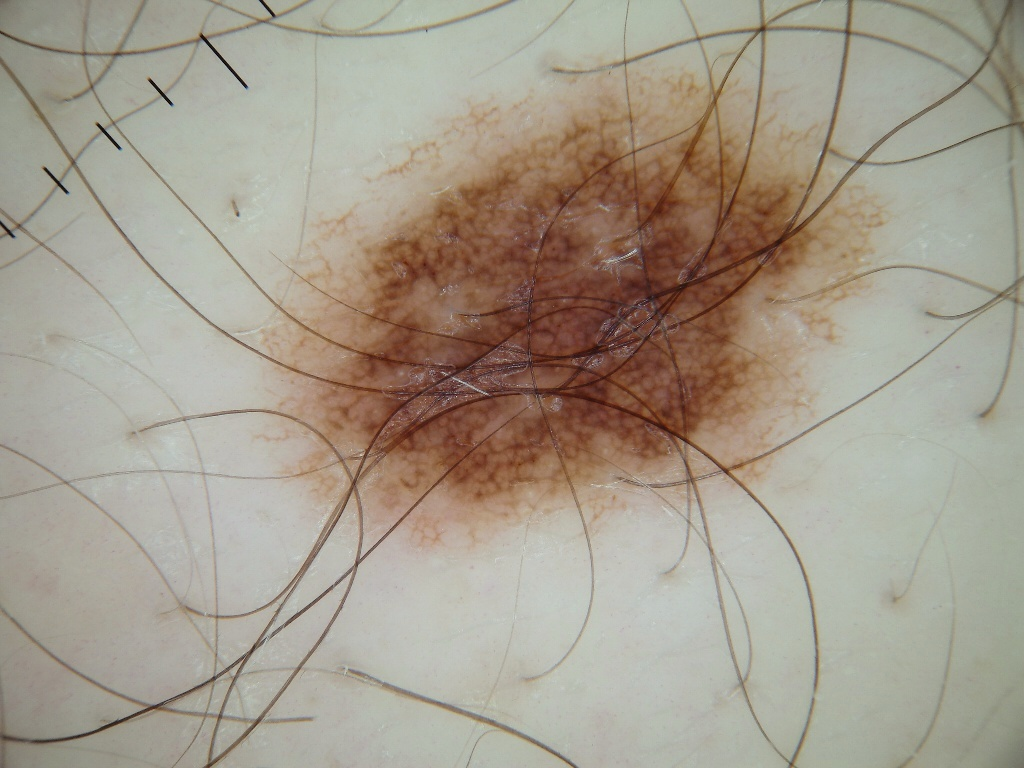Detected Lesion: (246, 68, 896, 559)
